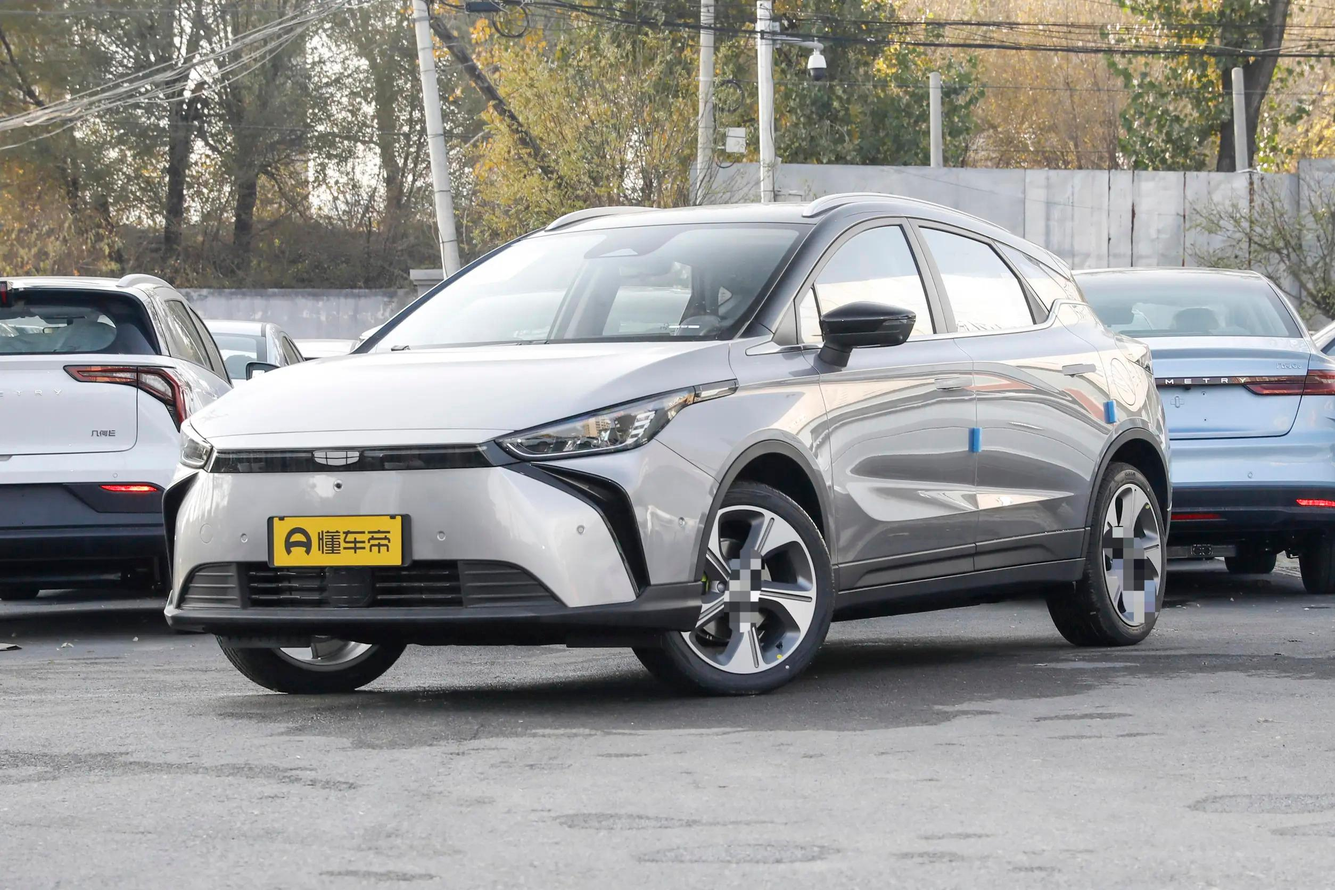GEOMETRY: (315, 452, 359, 465)
